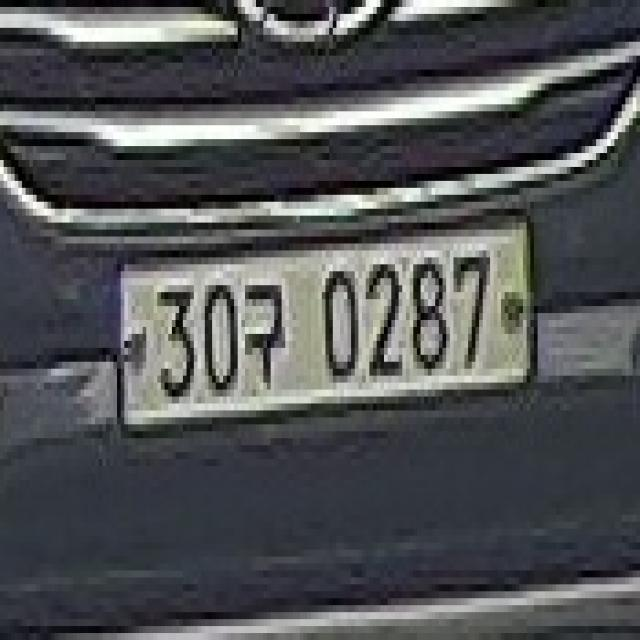0: (201, 278, 238, 390), (322, 271, 358, 376)
2: (366, 258, 402, 382)
3: (154, 272, 194, 396)
7: (454, 250, 494, 369)
8: (410, 257, 450, 376)
gu: (242, 278, 286, 397)
license_plate: (117, 216, 538, 431)
